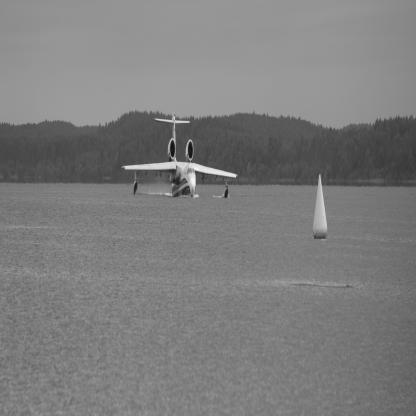Be200: (123, 112, 239, 199)
